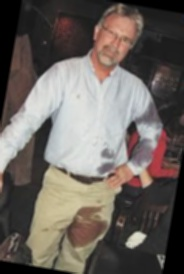wine: (65, 199, 110, 253), (88, 154, 118, 178), (134, 135, 156, 166), (135, 101, 158, 126), (94, 142, 120, 163)
